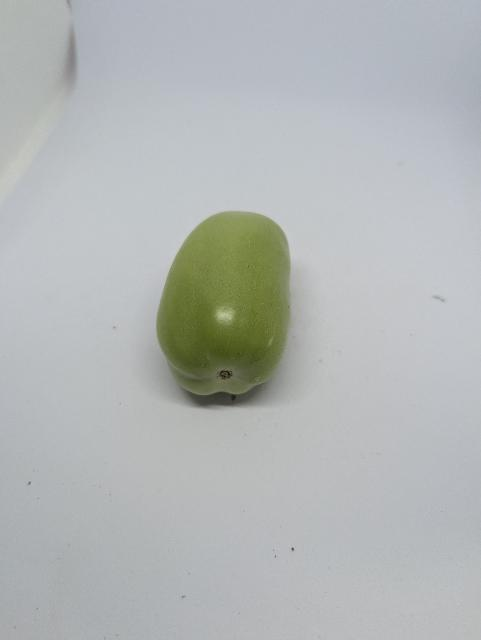green: (154, 206, 311, 412)
